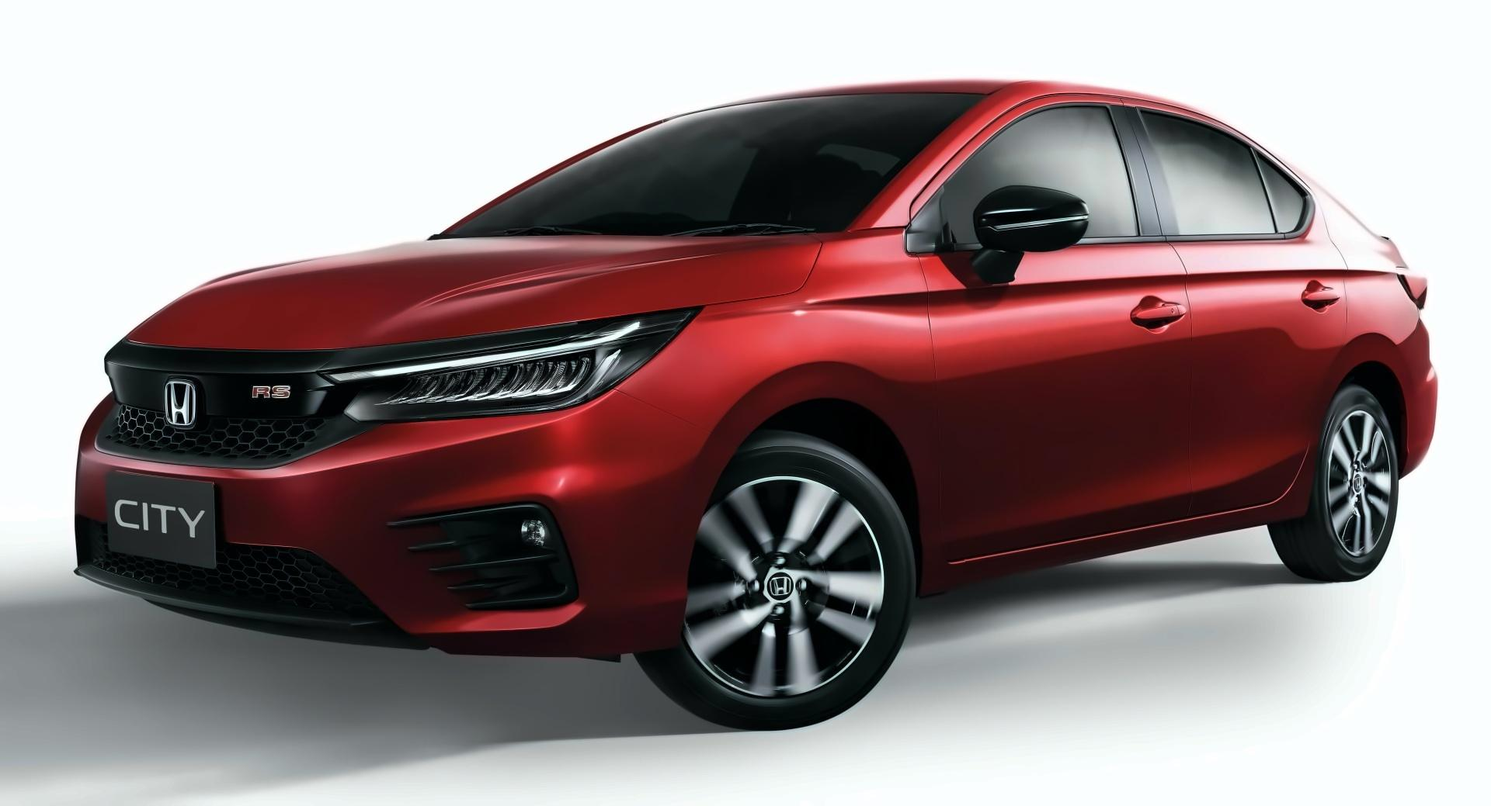Car hood: (113, 219, 828, 363)
Fender - -F-L-: (617, 226, 948, 603)
Fender - -R-L-: (1309, 226, 1412, 483)
Front bumper: (58, 398, 725, 666)
Headlight - -L-: (315, 295, 711, 435)
Passenger-s door - -F-L-: (916, 87, 1194, 575)
Passenger-s door - -R-L-: (1138, 90, 1351, 540)
Rear bumper: (1387, 344, 1451, 481)
Rear light - -L-: (1373, 217, 1440, 317)
Side bumper - -L-: (911, 447, 1329, 603)
Side mirror - -L-: (963, 173, 1094, 295)
